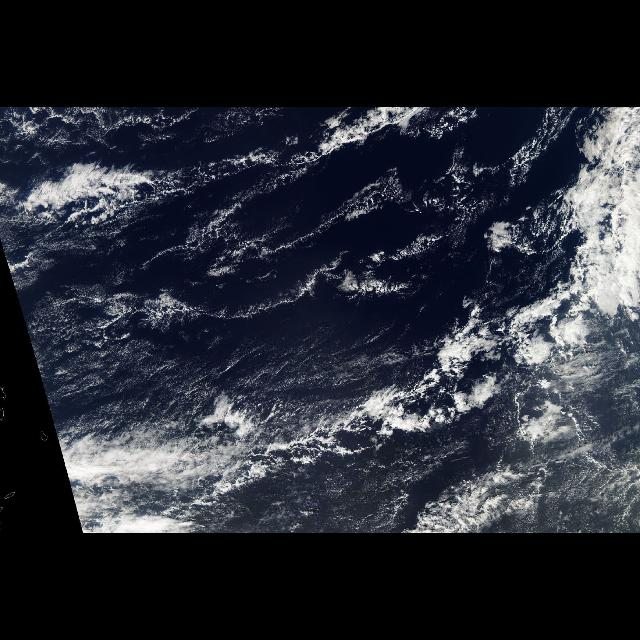Sugar: (168, 133, 578, 334)
